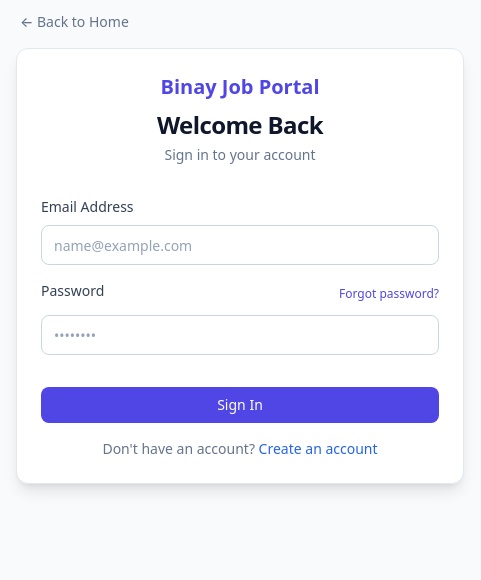
Test: Batch 2 Auth Pages & Flow Test Suite › Login Page › displays validation error for invalid email format
In the field with test id "login-email-input": [240, 245] box [41,225,439,265], type "invalid-email"
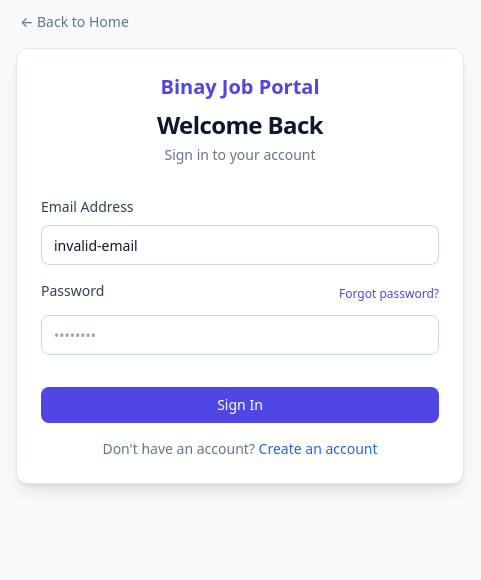
In the password field with test id "login-password-input": [240, 335] box [41,315,439,355], type "password123"
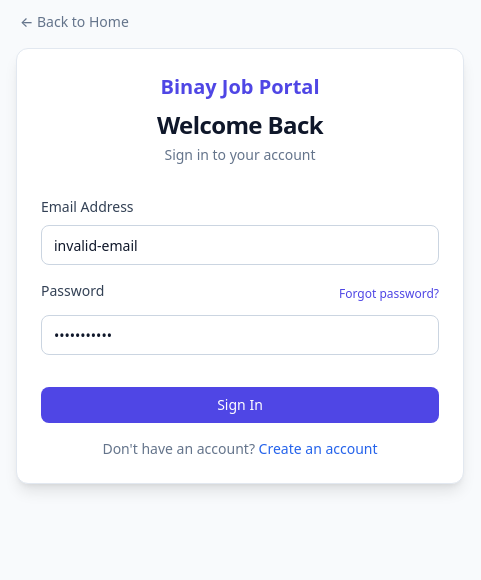
Submit the form with test id "login-form", box [41,181,439,459]
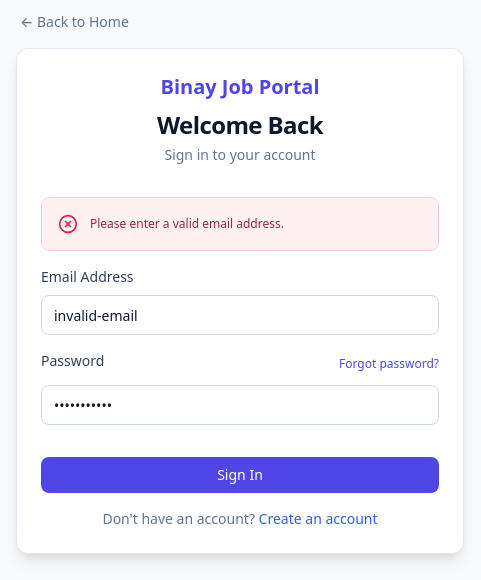
Expected: the message "Please enter a valid email address." is shown, [41,197,439,251]
Expected: the text "Please enter a valid email address." is shown, [90,215,284,232]
